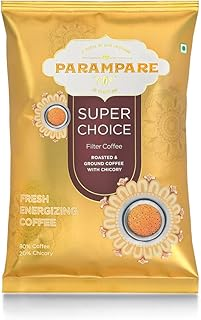Coffee: (1, 1, 200, 297)
